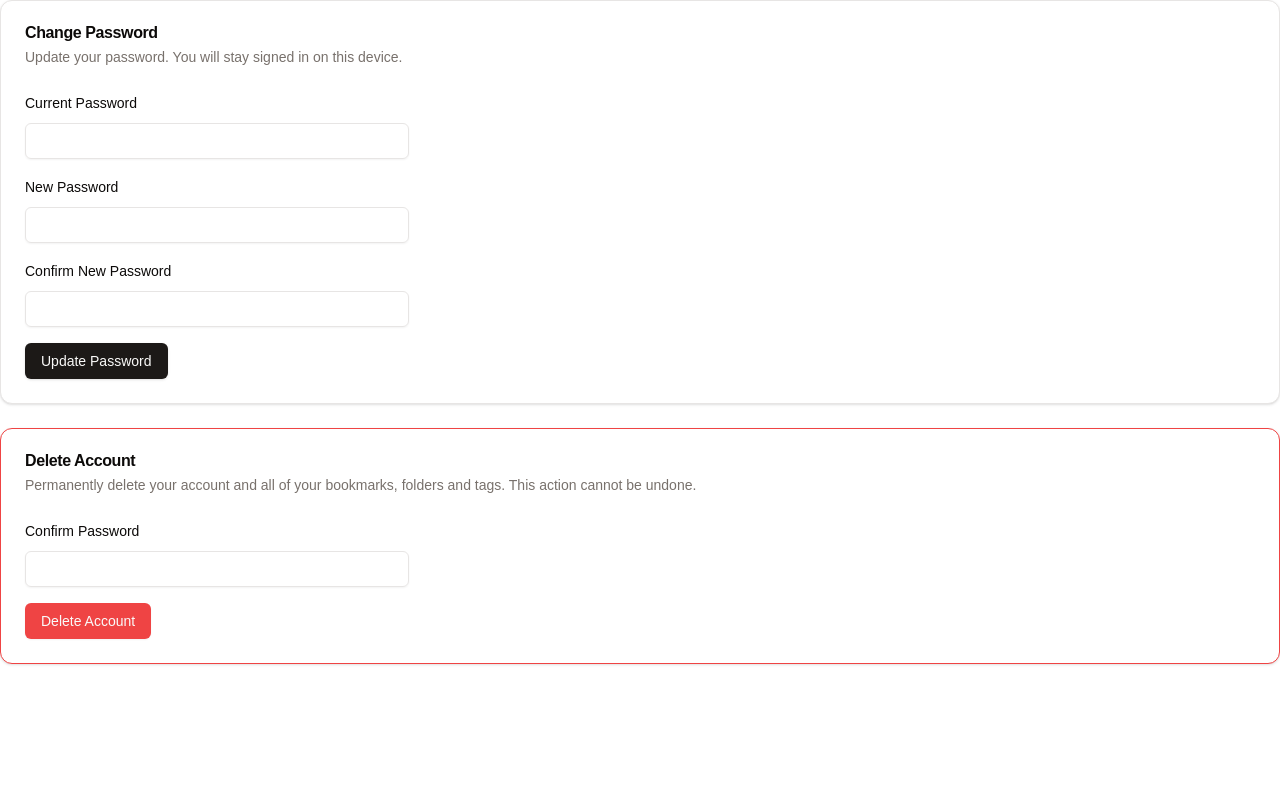
AccountSettings › shows a validation error when the new passwords do not match
Type "oldpassword123" into the password field labelled "Current Password".
click(217, 141); type("oldpassword123")  # box [25, 123, 409, 159]
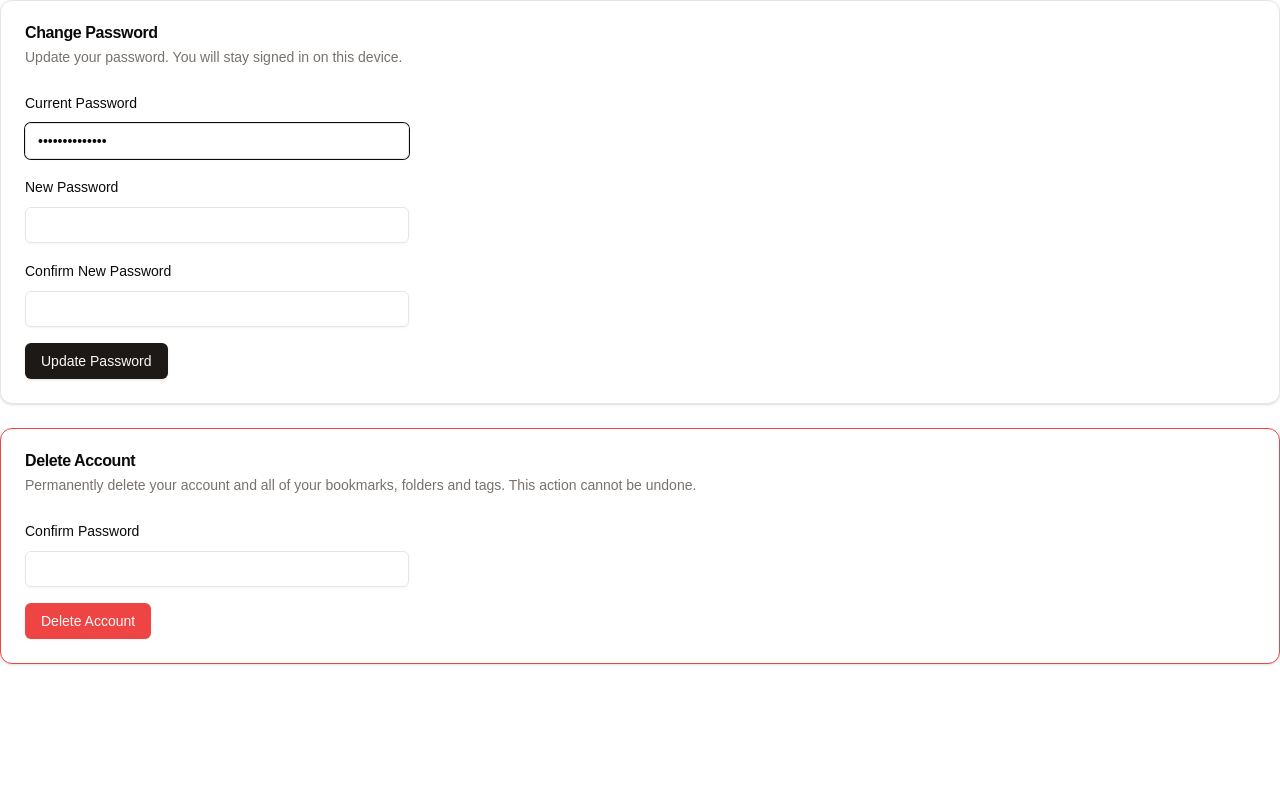
Type "newpassword123" into the password field labelled "New Password".
click(217, 225); type("newpassword123")  # box [25, 207, 409, 243]
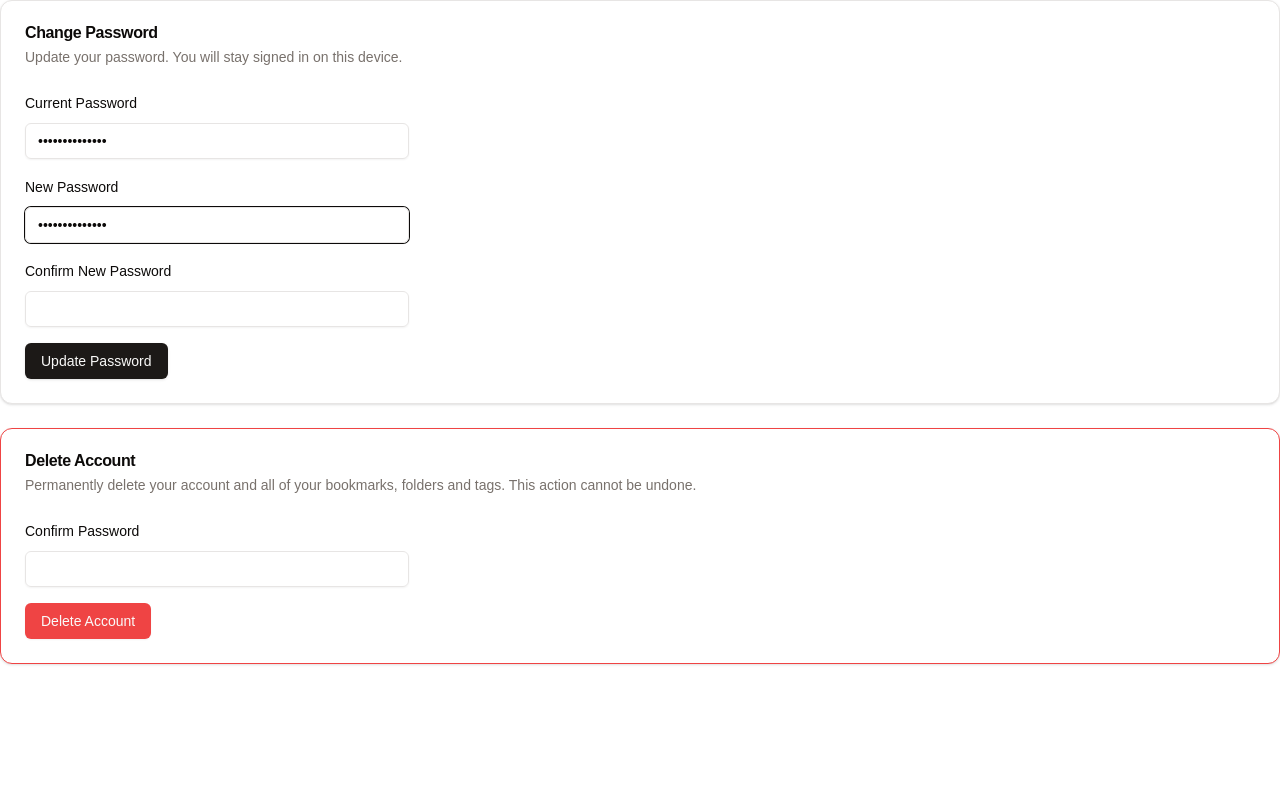
Type "differentpassword" into the password field labelled "Confirm New Password".
click(217, 309); type("differentpassword")  # box [25, 291, 409, 327]
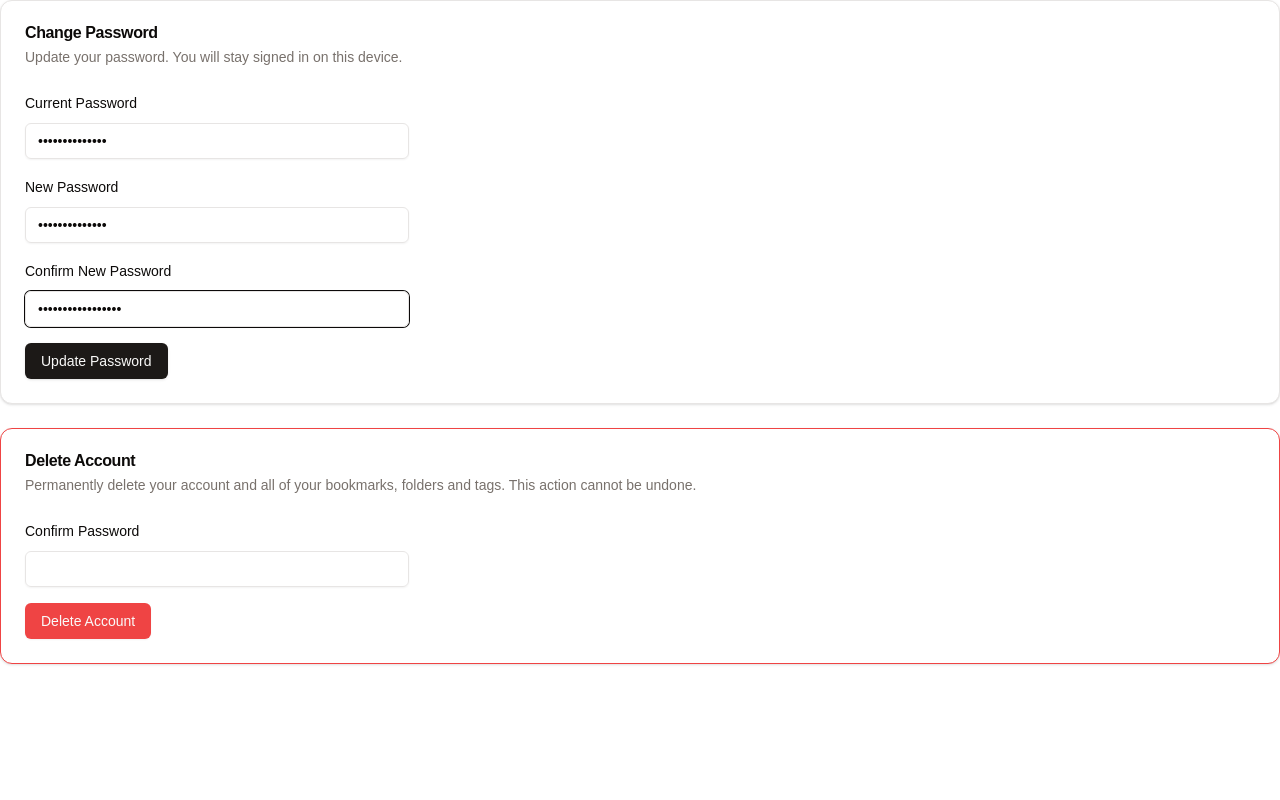
Submit the form from the button "Update Password", box [25, 343, 168, 379]
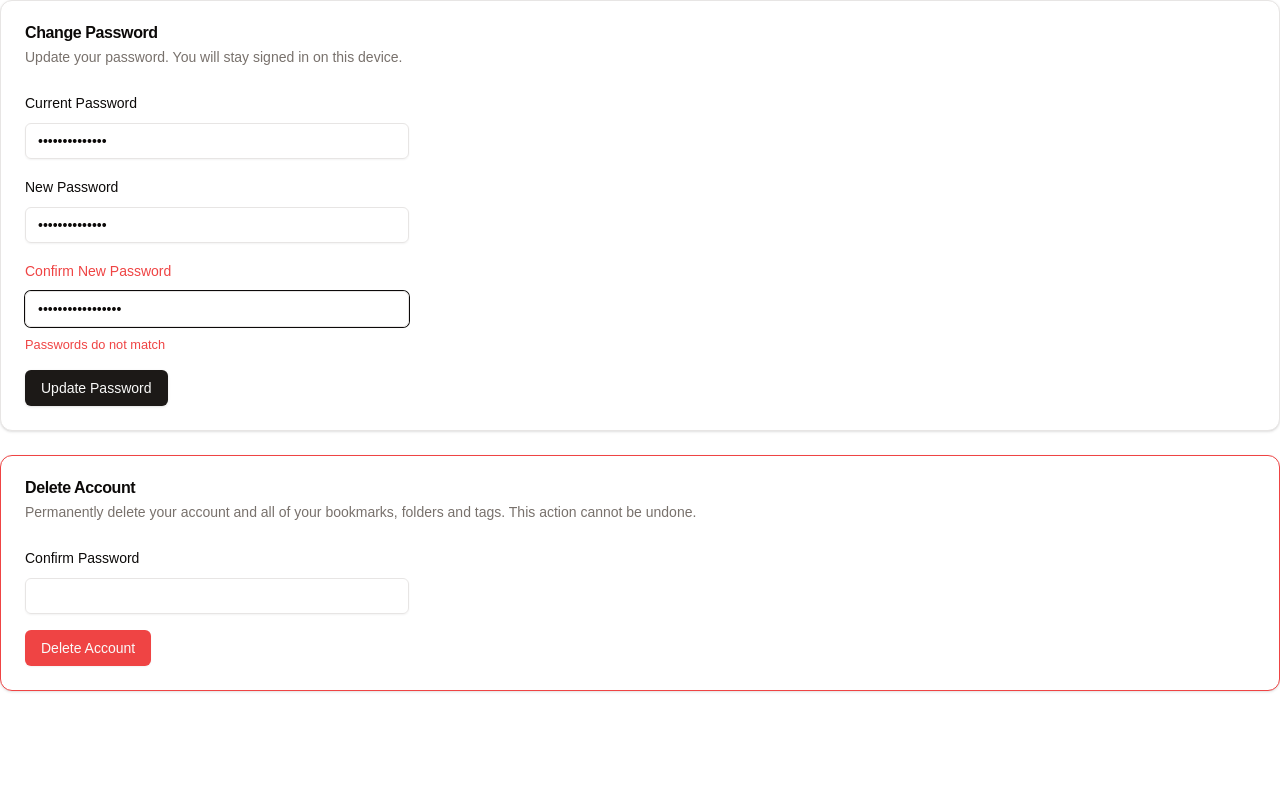
Check: the text "Passwords do not match" is shown, box [25, 337, 165, 352]
